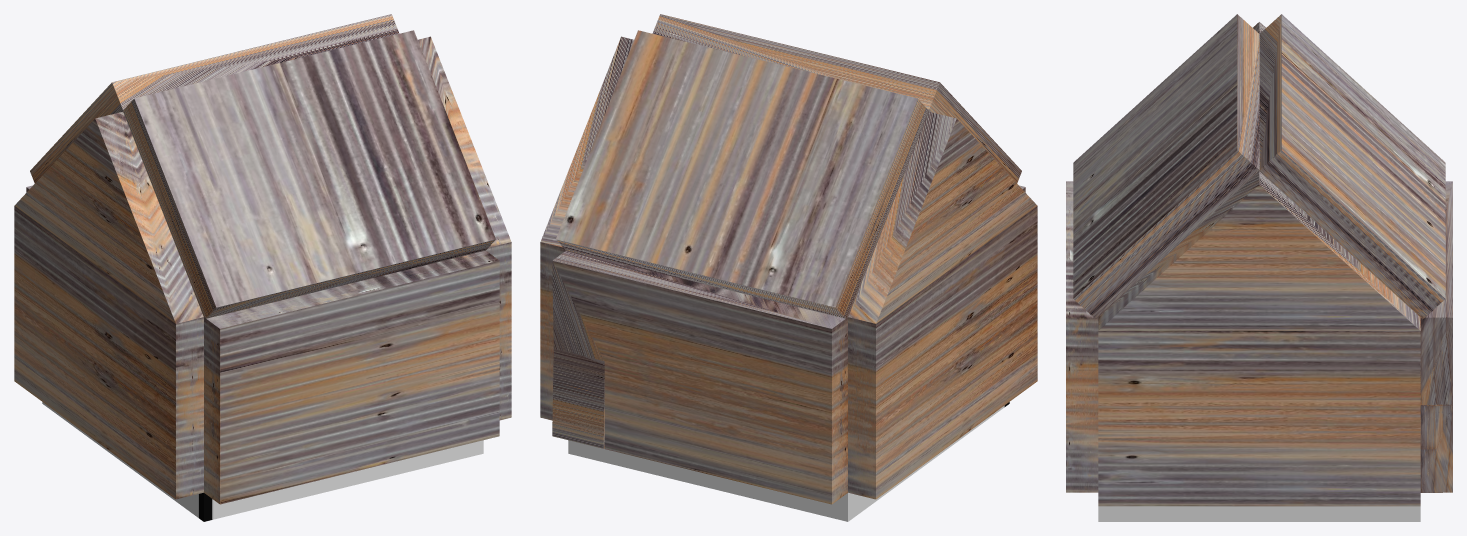
The model's file is Stage3-1.gltf.
3 renders of one model, left to right at view 1: azimuth 30°, elevation 25°; view 2: azimuth 150°, elevation 25°; view 3: azimuth 270°, elevation 25°, orthographic.
Parts seen in each view (by area): view 1: 立方体.005, 立方体.002, 立方体.003, 立方体.007, 立方体.006, 立方体, 立方体.008, 立方体.004; view 2: 立方体.006, 立方体.001, 立方体.003, 立方体.007, 立方体.005, 立方体, 立方体.008, 立方体.004; view 3: 立方体.004, 立方体.006, 立方体.005, 立方体.008, 立方体.002, 立方体.001, 立方体.
Part boxes in pixels (left/top/right/bottom): 立方体.005: left=123, top=30, right=495, bottom=318; 立方体.002: left=204, top=250, right=499, bottom=504; 立方体.003: left=14, top=206, right=203, bottom=499; 立方体.007: left=14, top=111, right=203, bottom=323; 立方体.006: left=30, top=14, right=399, bottom=183; 立方体: left=42, top=402, right=483, bottom=521; 立方体.008: left=418, top=36, right=511, bottom=247; 立方体.004: left=486, top=242, right=511, bottom=420; 立方体.006: left=556, top=30, right=928, bottom=319; 立方体.001: left=552, top=250, right=847, bottom=504; 立方体.003: left=848, top=206, right=1037, bottom=499; 立方体.007: left=848, top=111, right=1037, bottom=323; 立方体.005: left=652, top=14, right=1021, bottom=183; 立方体: left=568, top=402, right=1009, bottom=521; 立方体.008: left=540, top=36, right=633, bottom=247; 立方体.004: left=540, top=242, right=565, bottom=420; 立方体.004: left=1098, top=331, right=1420, bottom=506; 立方体.006: left=1259, top=14, right=1445, bottom=318; 立方体.005: left=1073, top=14, right=1259, bottom=318; 立方体.008: left=1098, top=171, right=1420, bottom=330; 立方体.002: left=1066, top=181, right=1098, bottom=492; 立方体.001: left=1420, top=181, right=1452, bottom=492; 立方体: left=1098, top=506, right=1420, bottom=521.
Bounding box in the file's own units: 24 × 25.46 × 24.
Materials: 2 (2 with a texture image).
